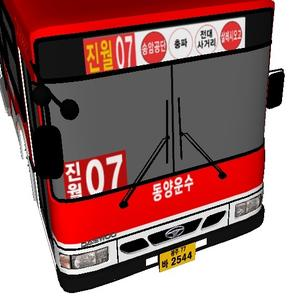07bus: (1, 5, 279, 291)
